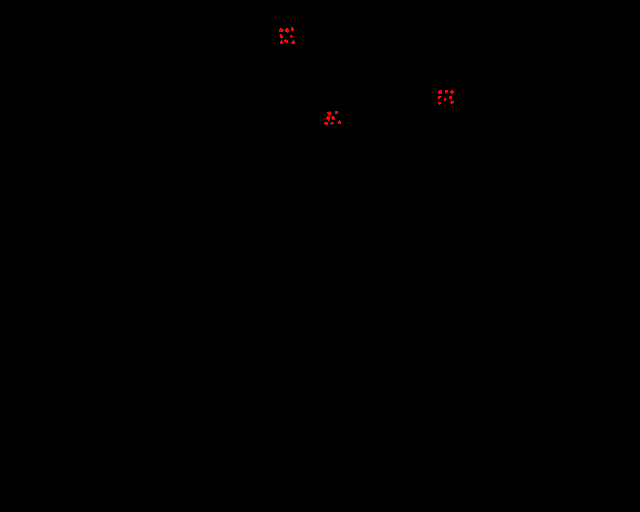Target: (279, 28, 284, 32), (285, 28, 289, 33), (326, 116, 330, 121), (284, 39, 288, 43), (291, 40, 295, 44), (438, 90, 442, 94), (450, 90, 454, 94), (327, 111, 331, 115), (331, 116, 335, 120), (280, 34, 283, 39), (437, 96, 442, 99), (291, 27, 294, 31), (280, 40, 283, 44), (450, 101, 454, 104), (338, 120, 341, 124), (324, 122, 328, 125), (330, 122, 334, 125), (290, 35, 293, 38), (445, 90, 448, 93), (449, 96, 452, 99), (444, 98, 447, 101), (438, 102, 441, 105), (335, 111, 338, 114)
